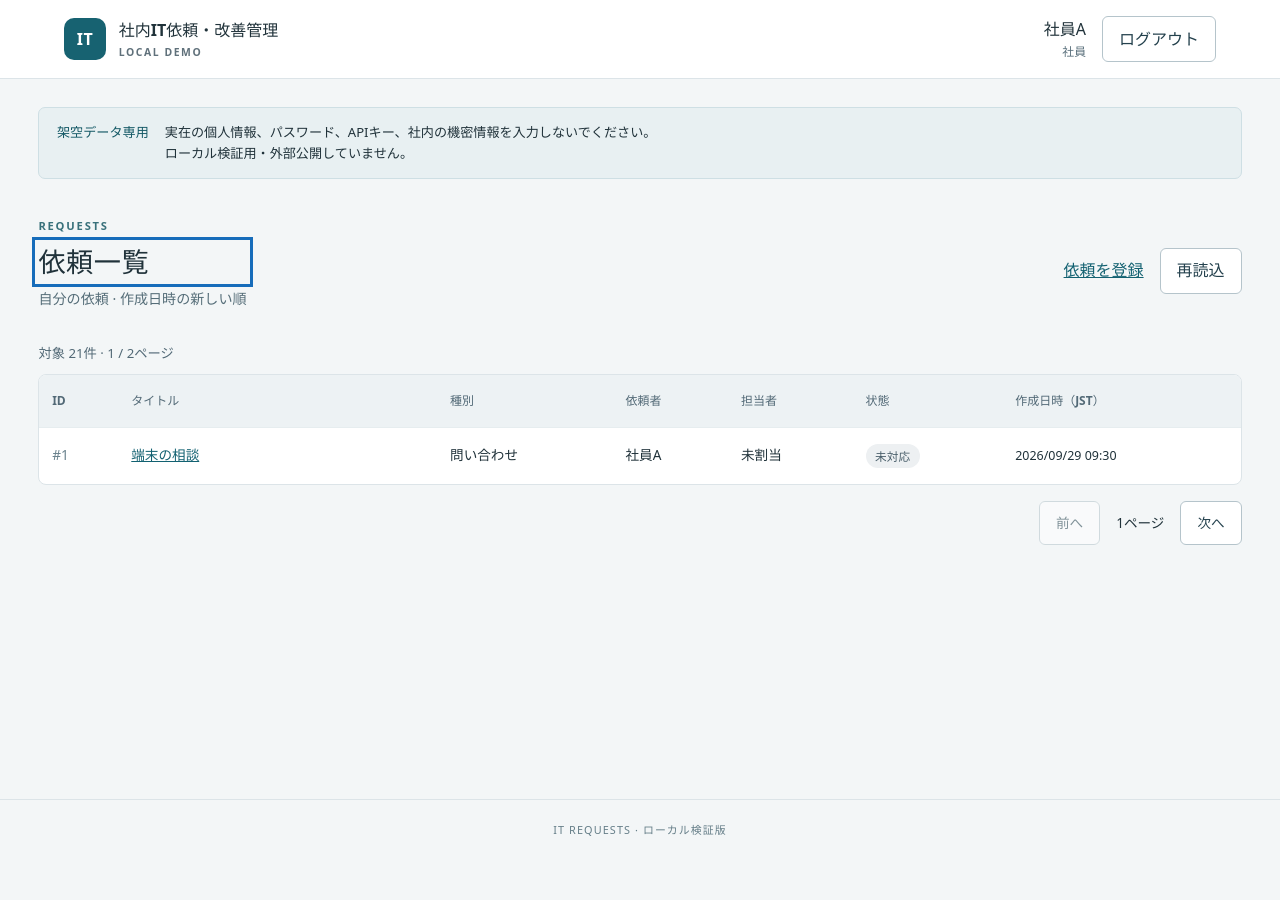
Test: screens (mock API and jsdom) › moves pages only by user action and retains server order
The width and height of the screenshot is (1280, 900).
Expected: the link "端末の相談" is shown, [131,445,199,464]
Click the button "次へ".
click(1211, 523)  # box [1180,501,1242,545]
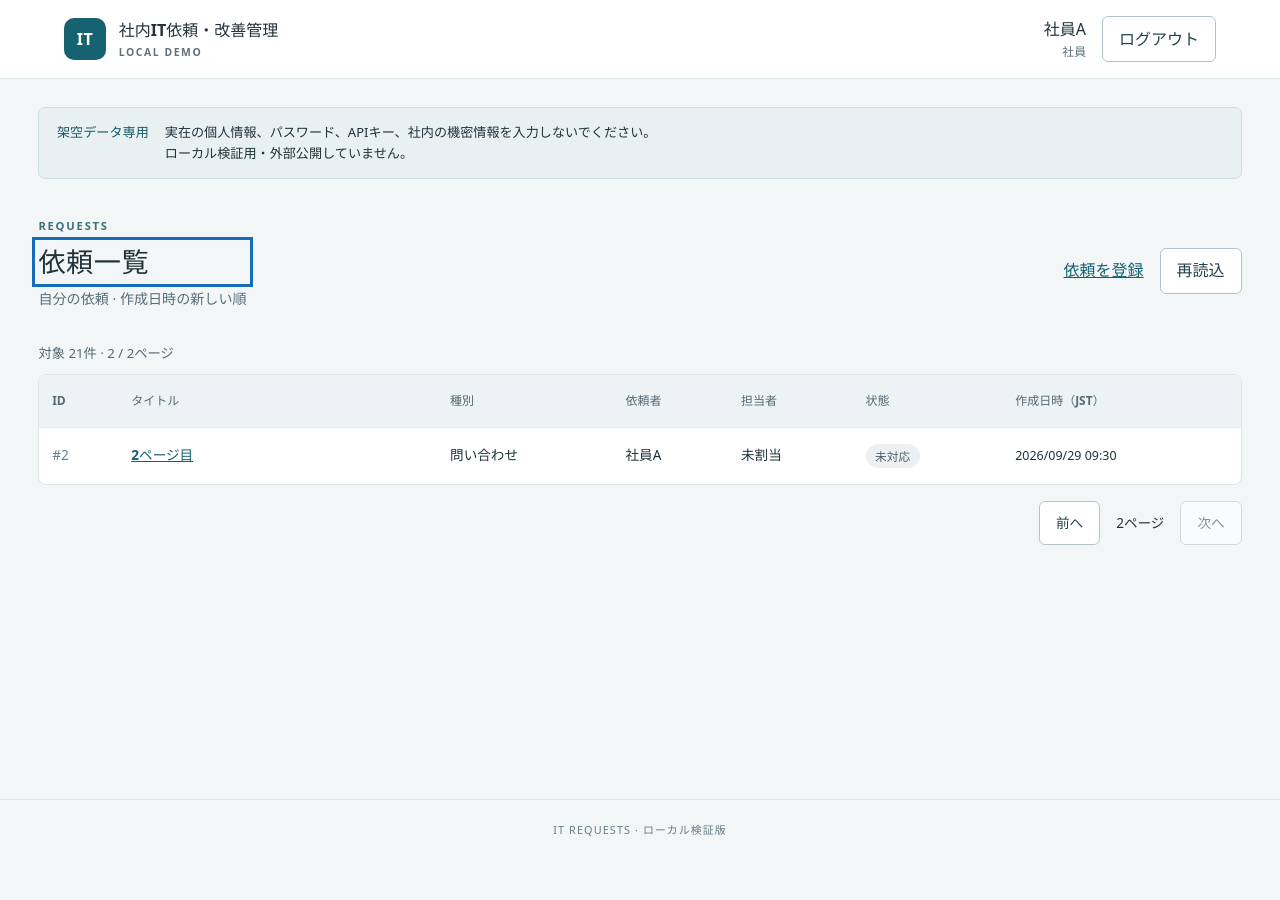
Expected: the link "2ページ目" is shown, [131,445,193,464]
Expected: the button "次へ" is disabled, [1180,501,1242,545]
